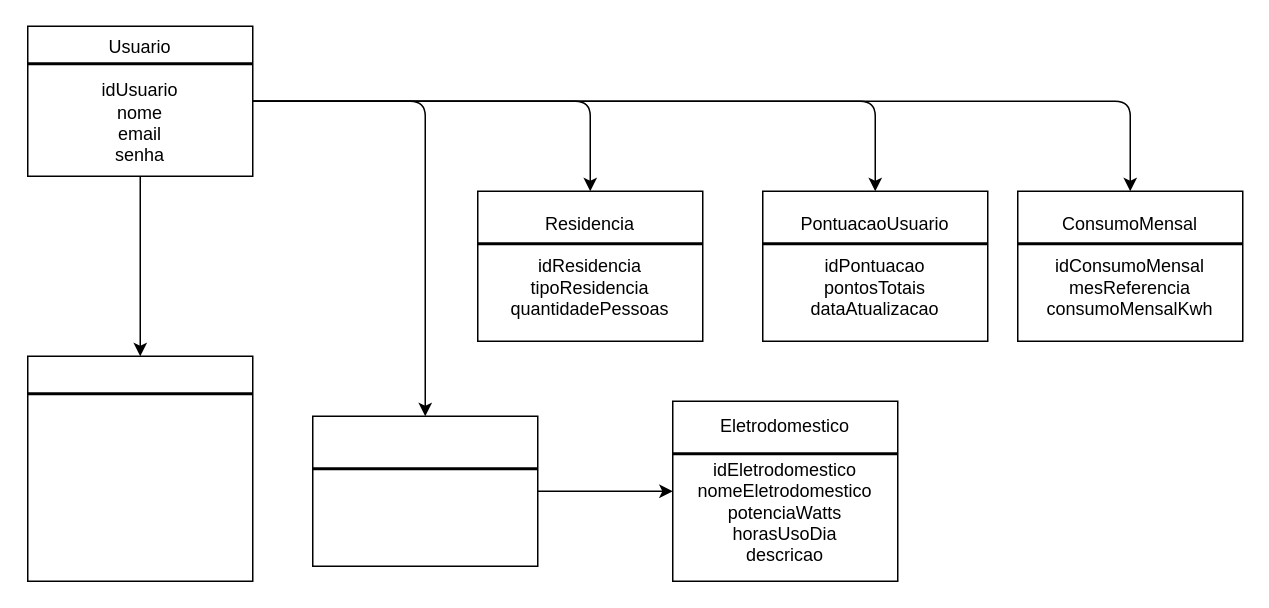
Image size: 1269x608. Some labels were removed from this diagram. Here are the shapes that lost their labels. From the top down, the centre of each, then its label:
At (139,468): "Endereco idEndereco logradouro numero complemento bairro cidade estado cep".
At (424,490): "Comodo idComodo nomeComodo descricao".
